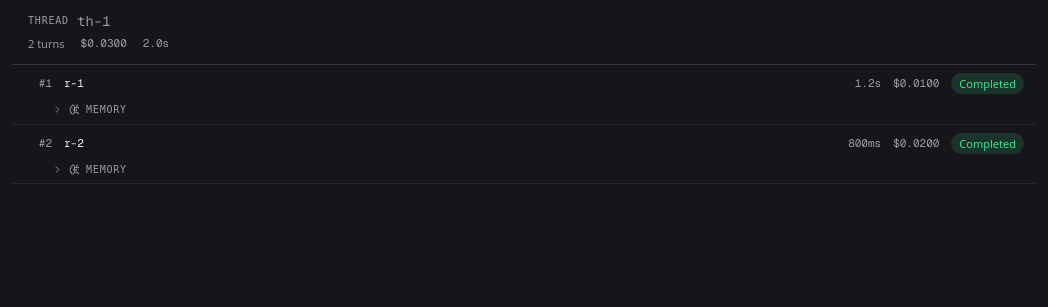
Test: ThreadDetail › incomingUnrecoverable is surfaced as an ALARM, with the SDK reason and what it means
Click the button "memory" below "1.2s" at (106, 110), box [12,102,1036,124]
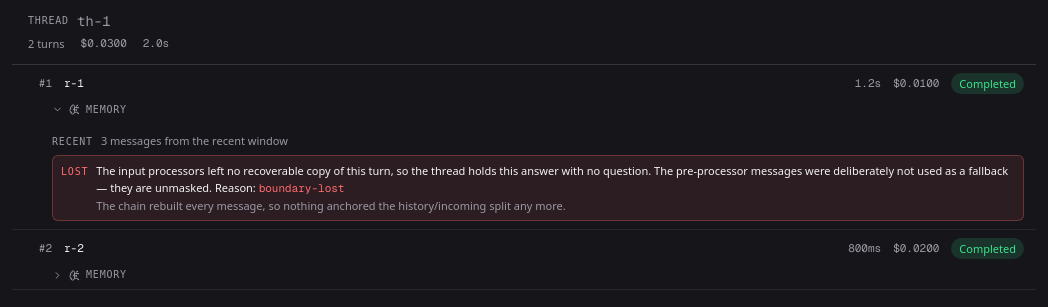
Now the text "no recoverable copy of this turn" is shown, box [96,163,1008,195]
Now the text "boundary-lost" is shown, box [259,181,344,195]
Now the text "rebuilt every message" is shown, box [96,198,566,213]
